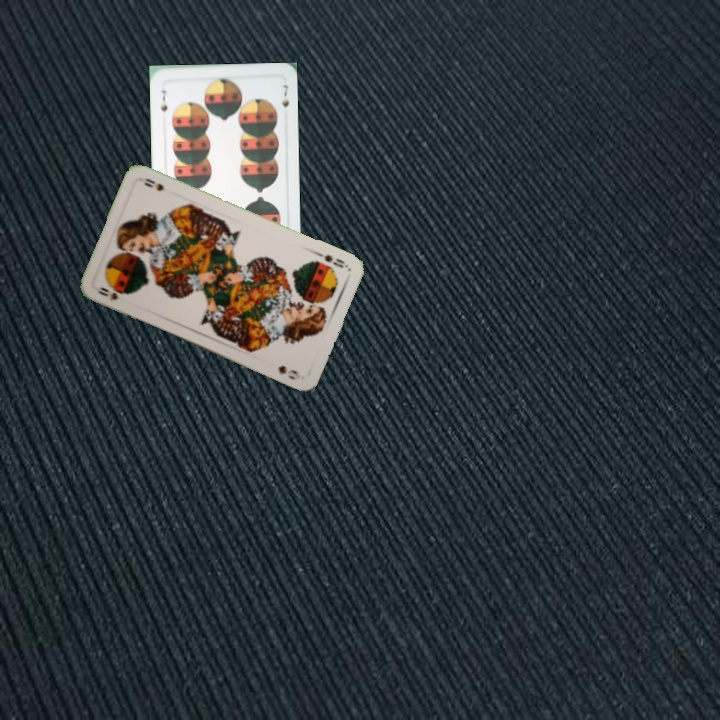S7: (157, 86, 170, 114)
SO: (312, 248, 351, 271), (92, 282, 121, 304)
